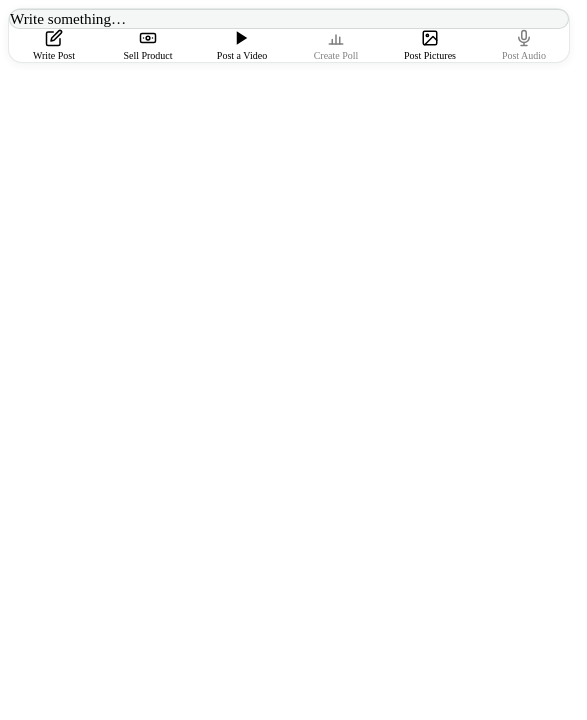
Test case: ComposerBox › Product mode without a shop shows the CTA and never publishes
Click the button with test id "composer-open": point(68, 18) top-left (9, 9), bottom-right (569, 29)
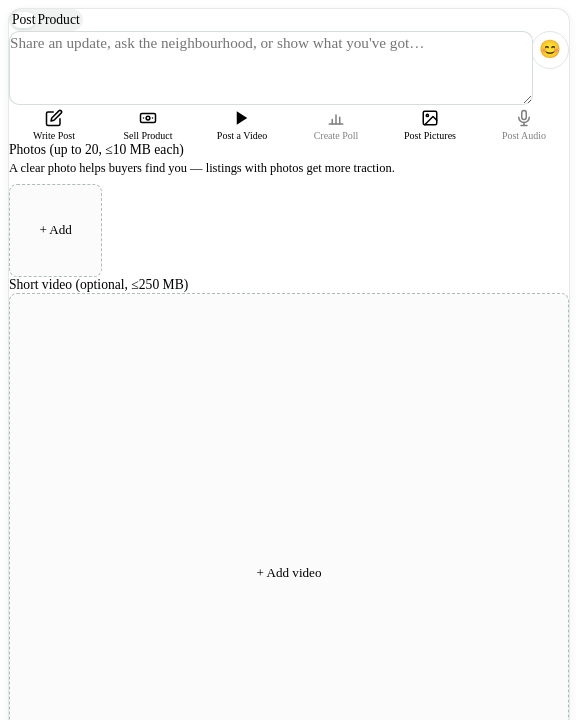
Click the tab with test id "composer-mode-product": point(59, 20) top-left (37, 12), bottom-right (80, 28)
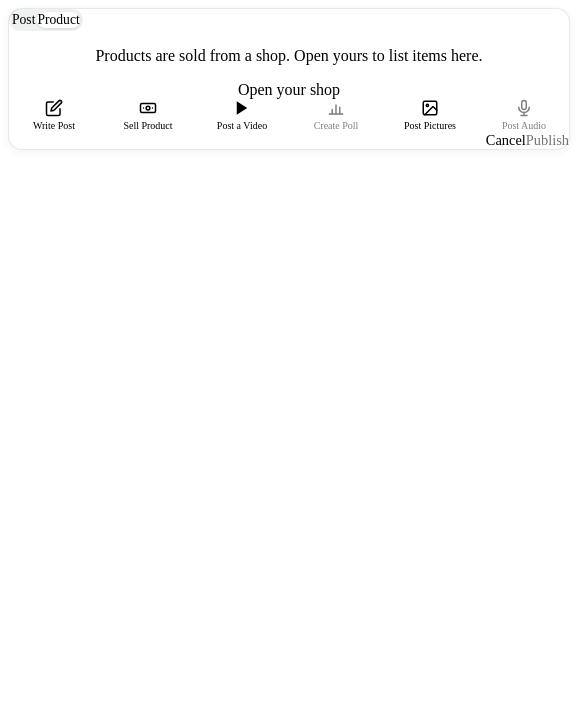
Result: the button with test id "composer-submit" is disabled at top-left (526, 132), bottom-right (569, 149)
Result: the element with test id "composer-no-shop" is shown at top-left (96, 47), bottom-right (482, 98)
